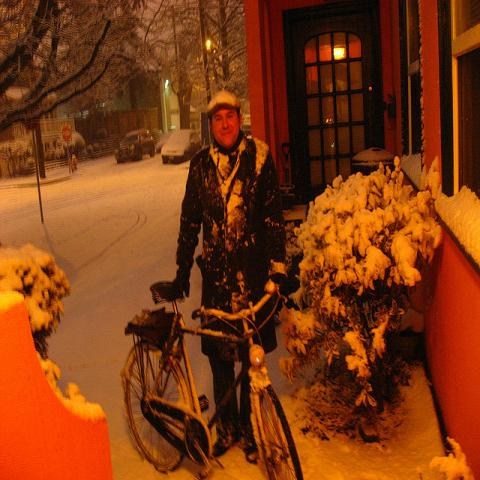car: (115, 127, 156, 164), (160, 130, 200, 164), (156, 130, 174, 152), (241, 113, 253, 134)
